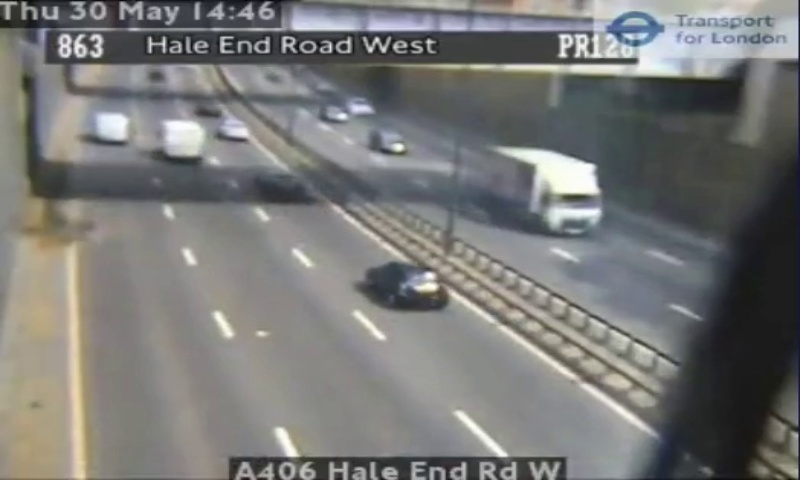car: (367, 263, 447, 308)
van: (158, 120, 206, 157), (93, 113, 126, 140)
